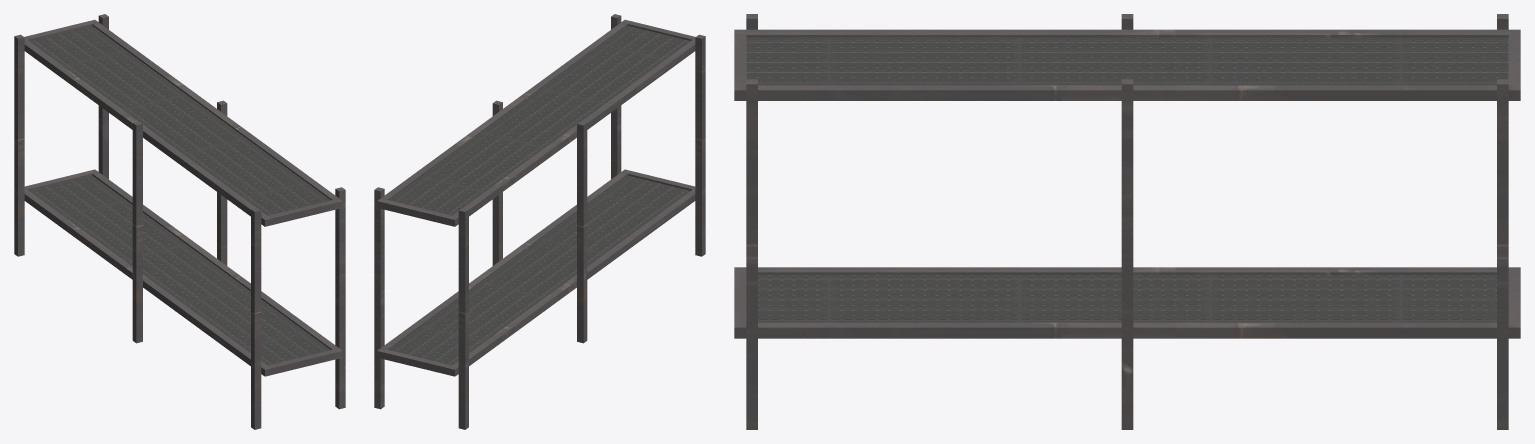
3 views of the same model, side by side, from view 1: azimuth 30°, elevation 25°; view 2: azimuth 150°, elevation 25°; view 3: azimuth 270°, elevation 25° (orthographic). The views are drawn at different scales.
Parts seen in each view (by area): view 1: body0_model0_lod0_mesh0, body0_model0_lod0_mesh1; view 2: body0_model0_lod0_mesh0, body0_model0_lod0_mesh1; view 3: body0_model0_lod0_mesh0, body0_model0_lod0_mesh1.
Boxes of the visible parts, left/top/right/bottom form: body0_model0_lod0_mesh0: left=29, top=25, right=330, bottom=365; body0_model0_lod0_mesh1: left=14, top=14, right=345, bottom=429; body0_model0_lod0_mesh0: left=389, top=25, right=690, bottom=365; body0_model0_lod0_mesh1: left=374, top=14, right=705, bottom=429; body0_model0_lod0_mesh0: left=746, top=37, right=1508, bottom=322; body0_model0_lod0_mesh1: left=734, top=14, right=1520, bottom=429.
Size of the model in its own units: 55.98 by 128 by 264.
2 materials, 2 textured.
